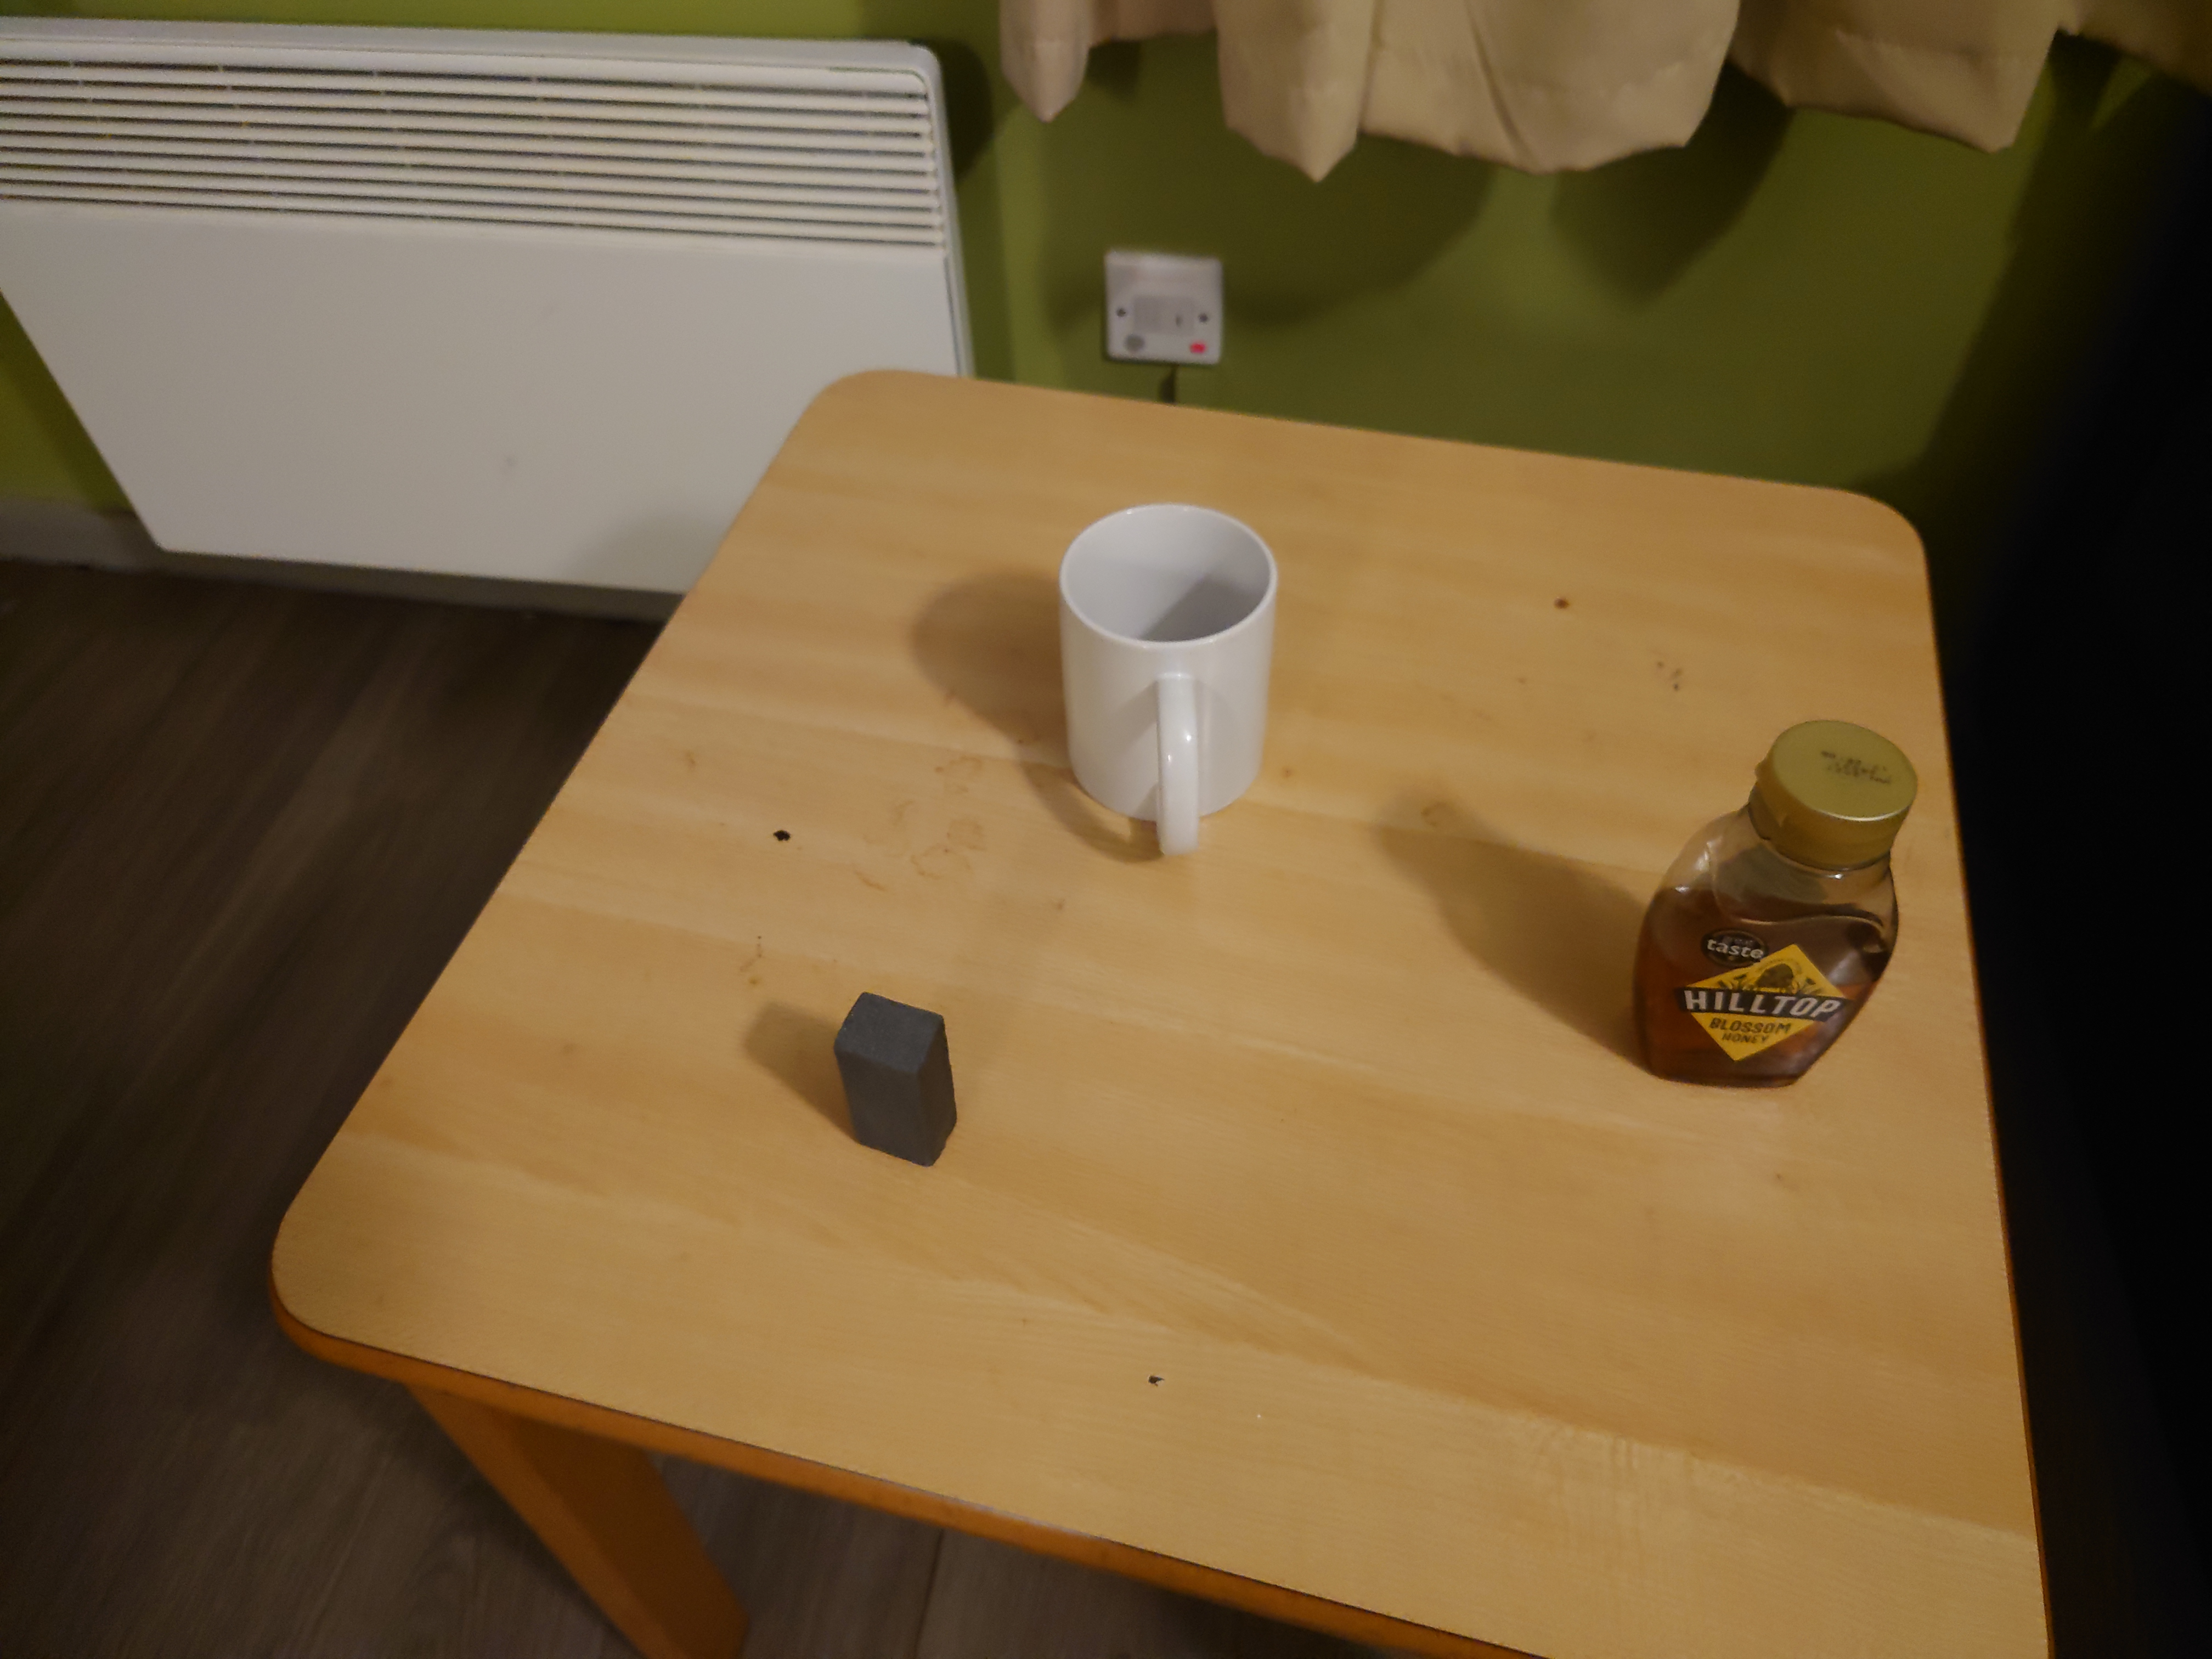cup: (1049, 502, 1299, 857)
target: (831, 988, 960, 1162)
